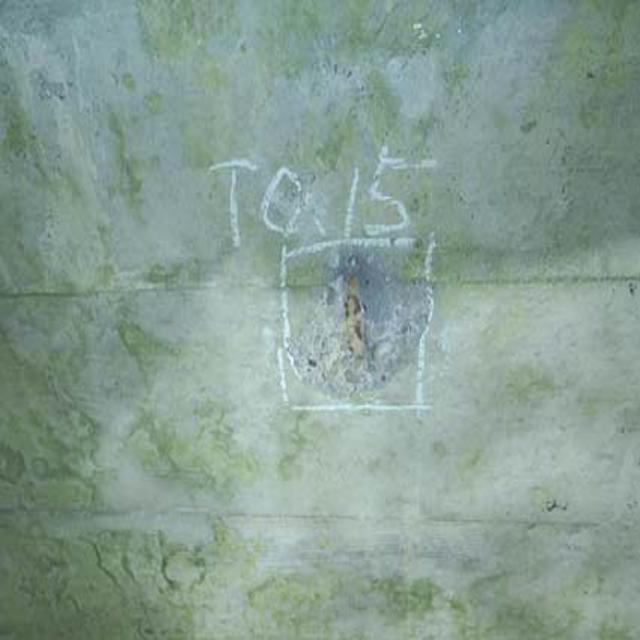leakage: (280, 250, 431, 404)
